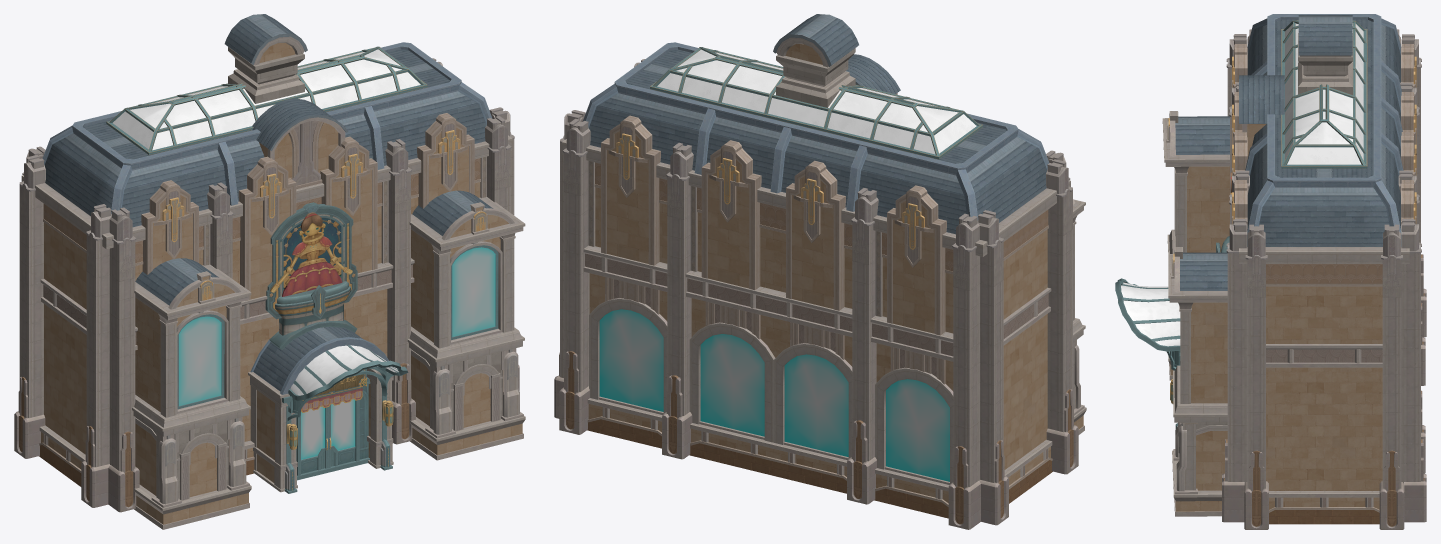
Rendered from Homeworld_Exterior_Fd_Build_ZhuchengJz_04_Lod0.fbx.
The picture shows the model from 3 angles, left to right: view 1: azimuth 30°, elevation 25°; view 2: azimuth 150°, elevation 25°; view 3: azimuth 270°, elevation 25°; orthographic projection. The views are drawn at different scales.
Visible parts, largest first — view 1: Homeworld_Exterior_Fd_Build_ZhuchengJz_04_Lod0; view 2: Homeworld_Exterior_Fd_Build_ZhuchengJz_04_Lod0; view 3: Homeworld_Exterior_Fd_Build_ZhuchengJz_04_Lod0.
Part boxes in pixels (box(x1,y1,x2,y2)): Homeworld_Exterior_Fd_Build_ZhuchengJz_04_Lod0: box(14, 14, 525, 529); Homeworld_Exterior_Fd_Build_ZhuchengJz_04_Lod0: box(554, 14, 1086, 529); Homeworld_Exterior_Fd_Build_ZhuchengJz_04_Lod0: box(1115, 14, 1426, 529).
Size of what is drawn, in the model's own units: 26.41 by 23.86 by 16.51.
